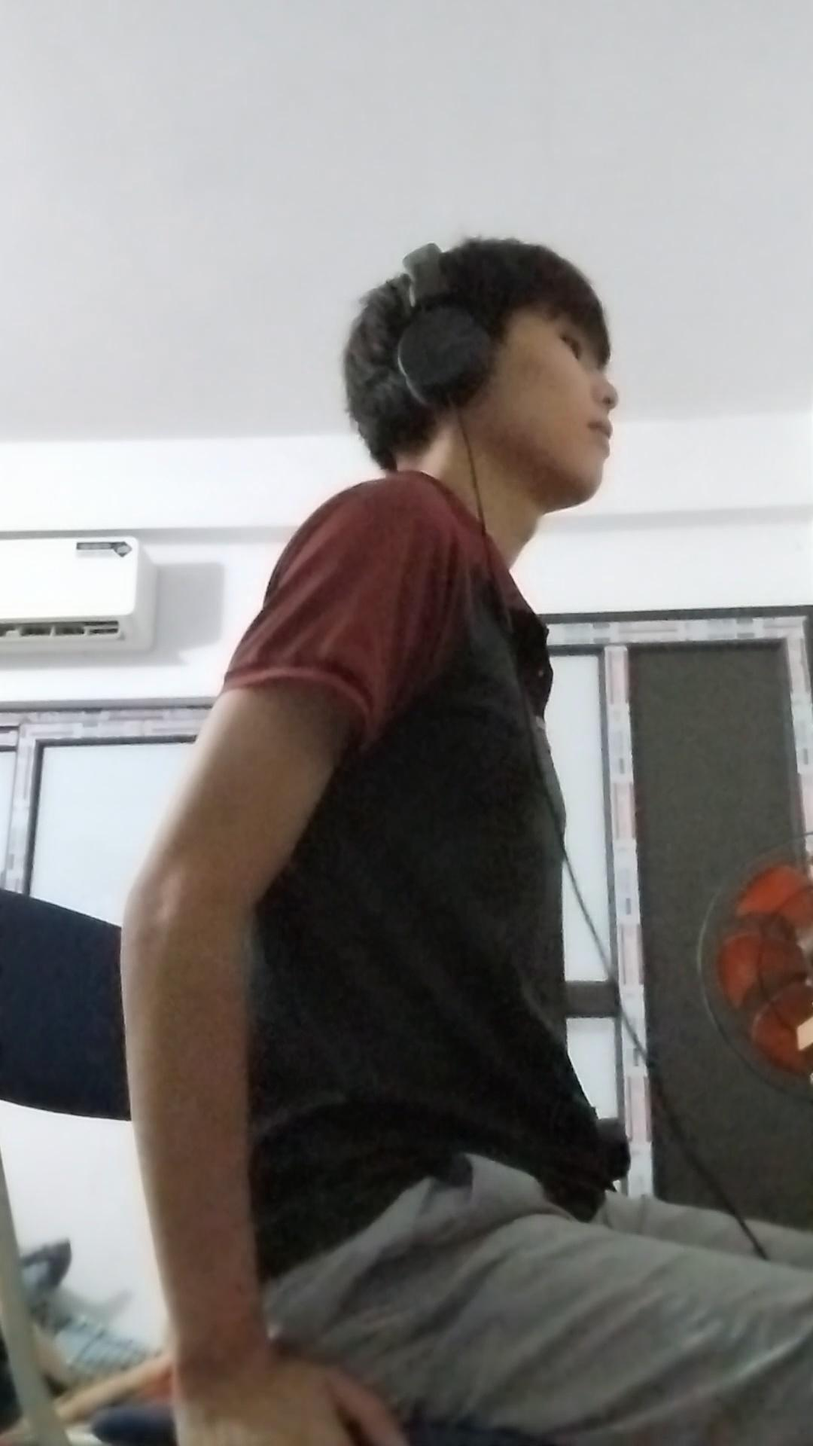GoodPosture: (125, 238, 812, 1445), (123, 239, 619, 1319)
